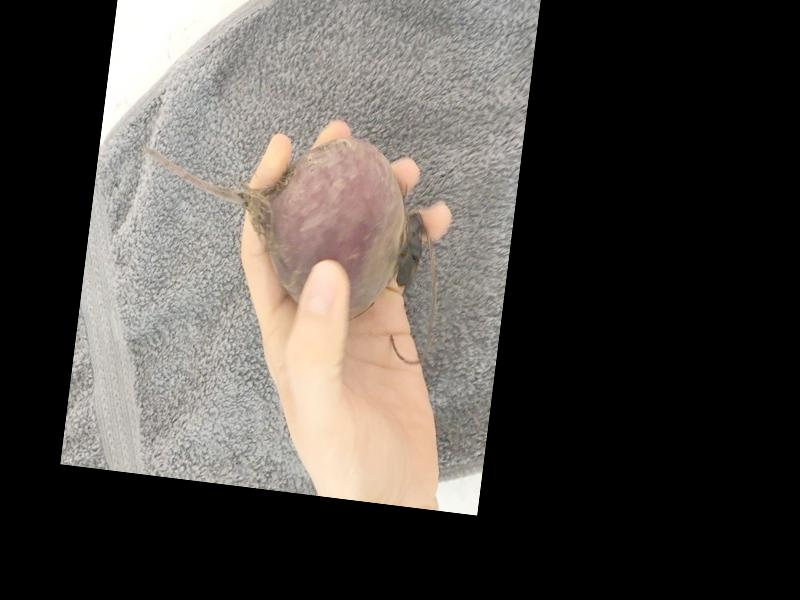Beet: (123, 112, 433, 328)
